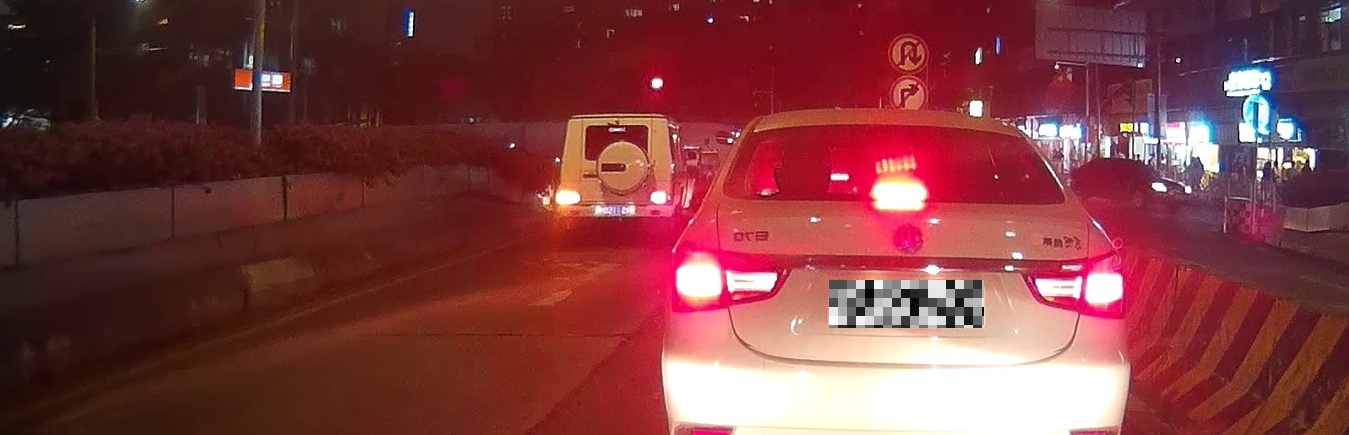L_light: (672, 242, 792, 311), (558, 190, 581, 204)
R_light: (1020, 250, 1125, 319), (649, 191, 669, 205)
T_light: (870, 179, 927, 201), (606, 125, 628, 133)
night-brake: (672, 107, 1131, 435)
night-left: (557, 115, 671, 245)
plate_1: (829, 280, 984, 328)
